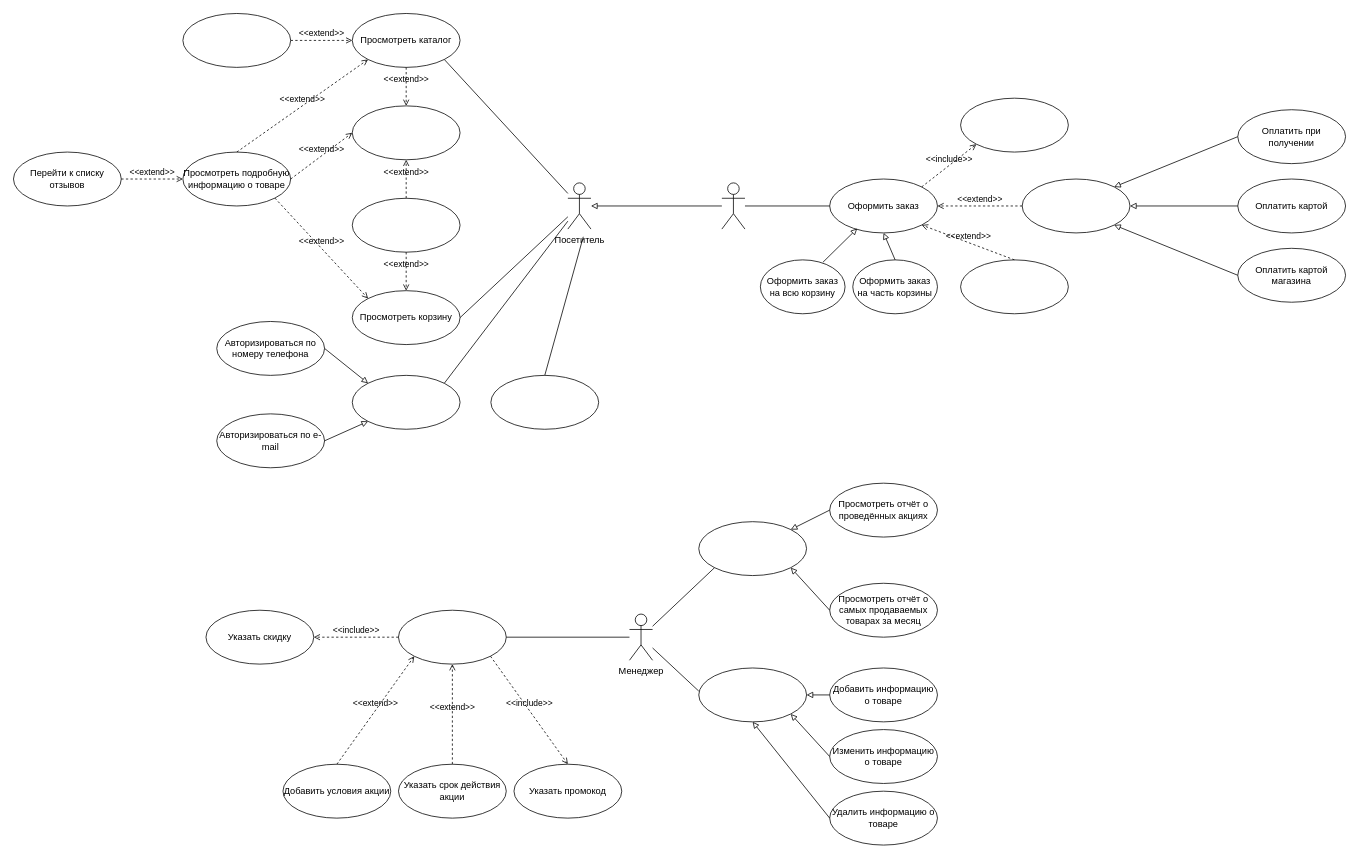
The diagram is 1359 pixels wide and 859 high, and some of its shapes have lost their labels. Here are the shapes that lost their labels. From the top down, the centre of each, then its label:
pixel 236 40: Отфильтровать список по ключевым словам
pixel 406 132: Добавить товар в корзину
pixel 1014 124: Указать адрес доставки
pixel 406 225: Изменить кол-во товаров в корзине
pixel 733 205: Покупатель
pixel 1075 205: Оплатить заказ
pixel 1014 286: Применить скидку
pixel 406 402: Авторизироваться
pixel 544 402: Зарегистрироваться
pixel 752 548: Просмотреть отчёт
pixel 452 636: Создать акцию
pixel 752 694: Редактировать информацию о товаре
